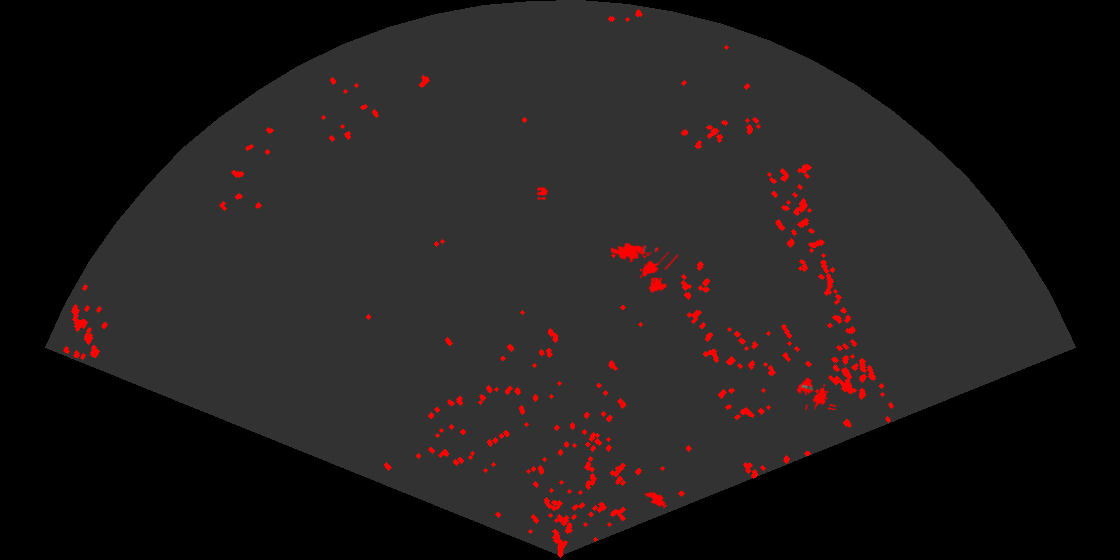AUV: (643, 490, 667, 508)
ball: (535, 186, 549, 202)
cage: (637, 252, 678, 294), (795, 376, 836, 410)
frogman: (611, 241, 660, 264)
